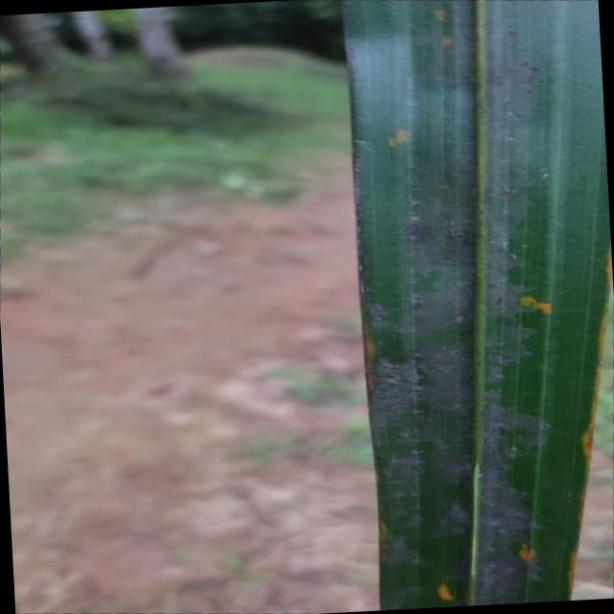Kalium: (340, 0, 612, 614)
